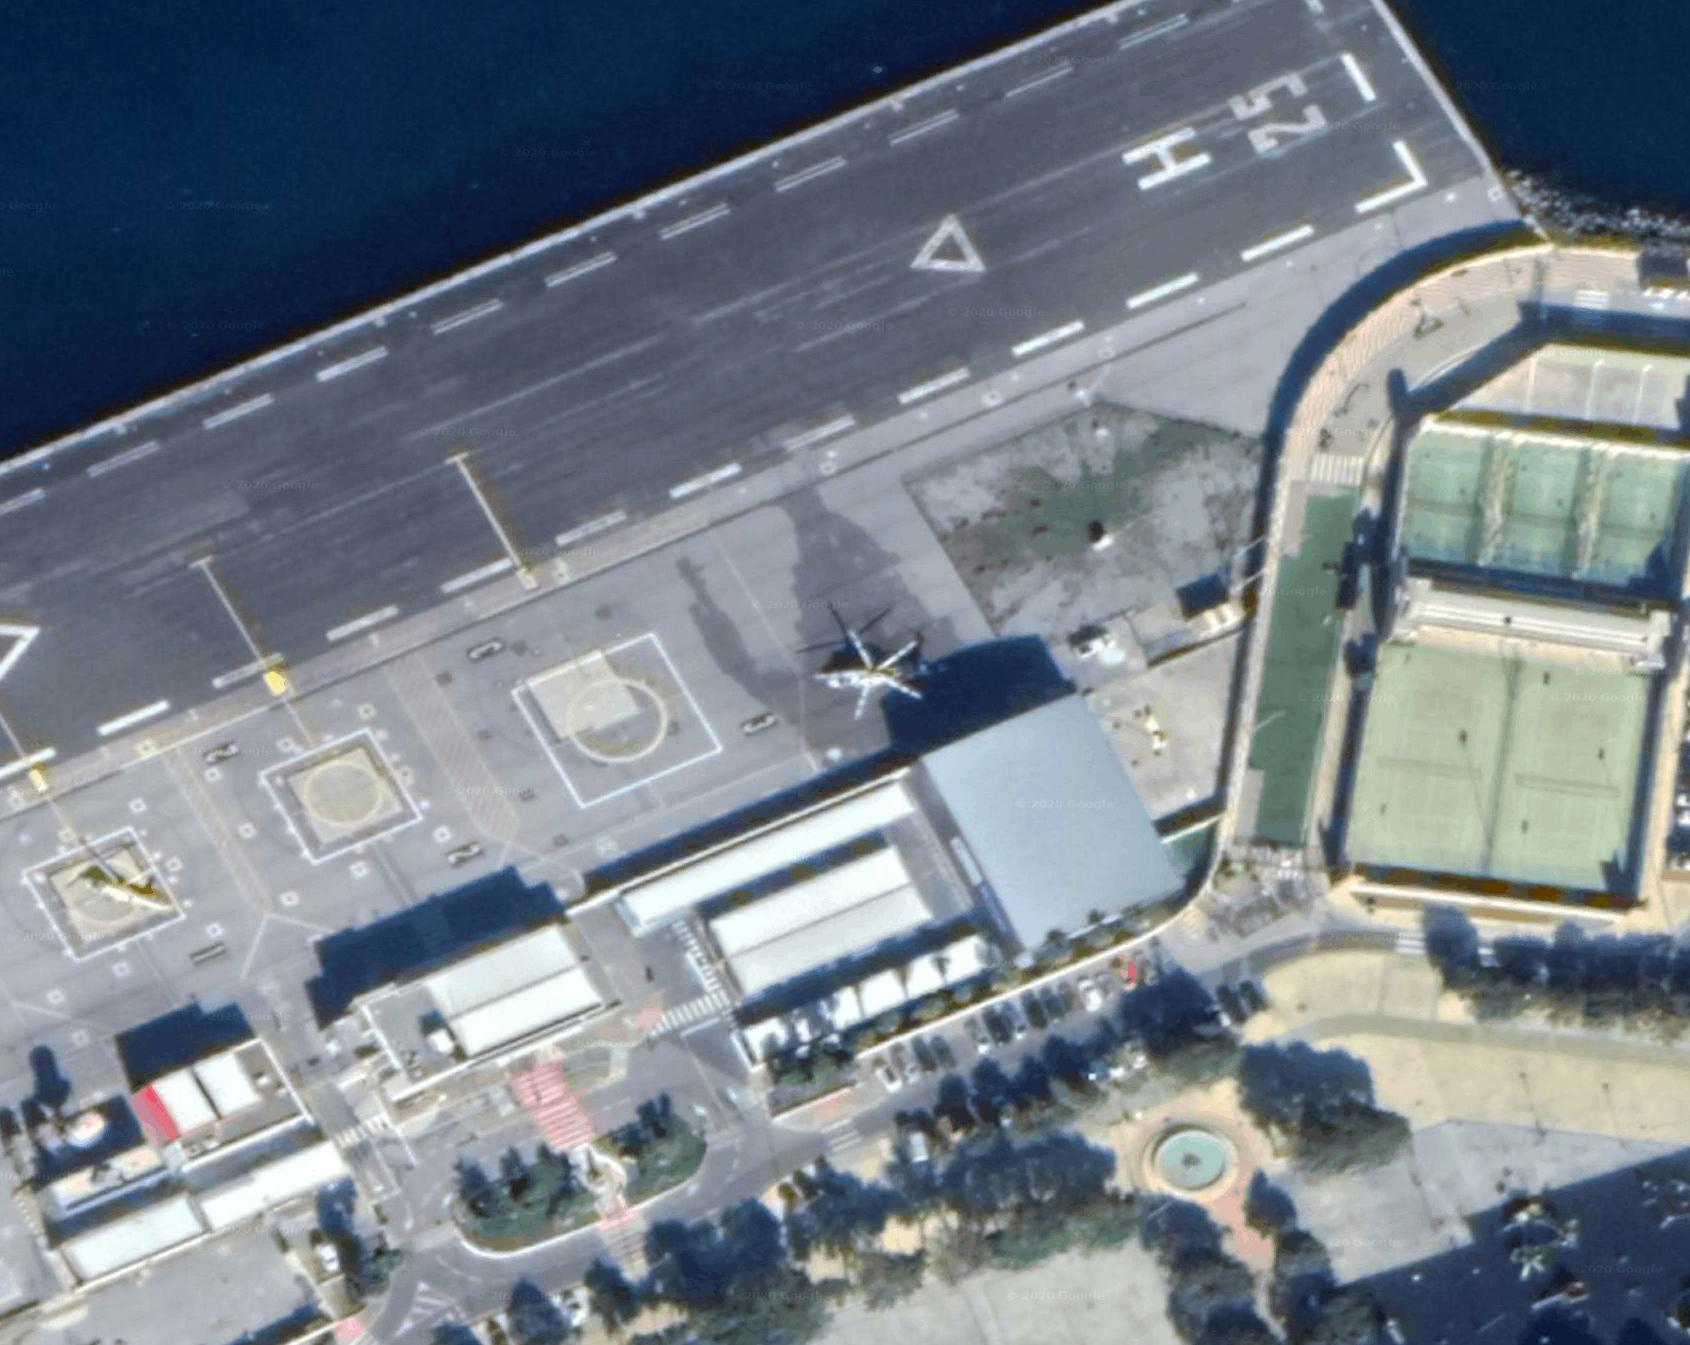helicopter: (796, 596, 934, 738), (60, 847, 178, 928)
